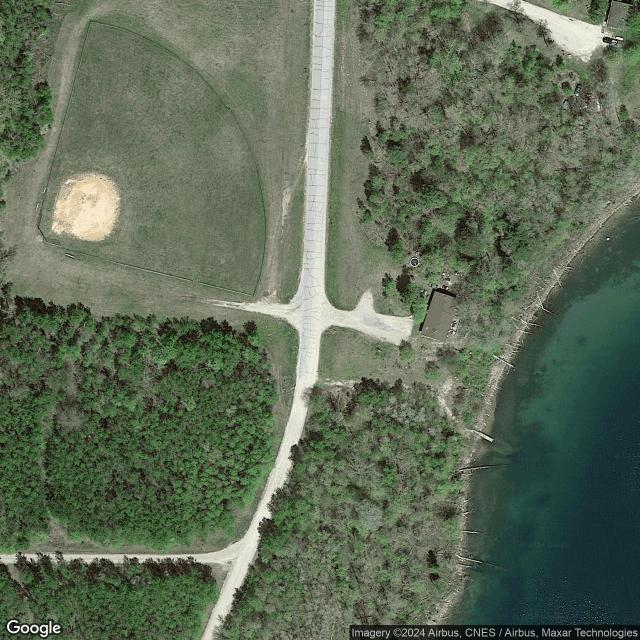Propane: (614, 35, 625, 42)
